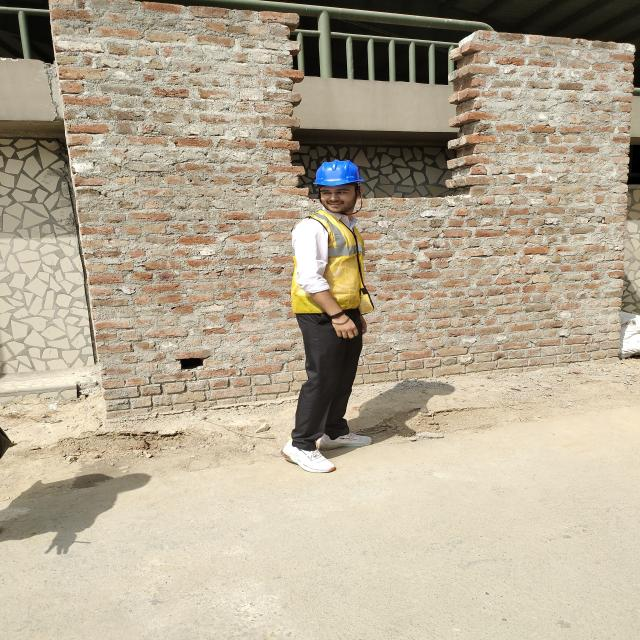safe: (291, 160, 375, 473)
